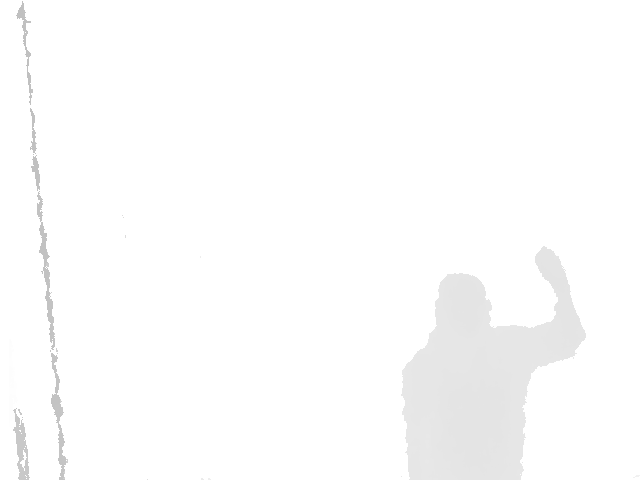hand: (533, 246, 568, 286)
head: (434, 272, 492, 338)
person: (400, 246, 587, 480)
